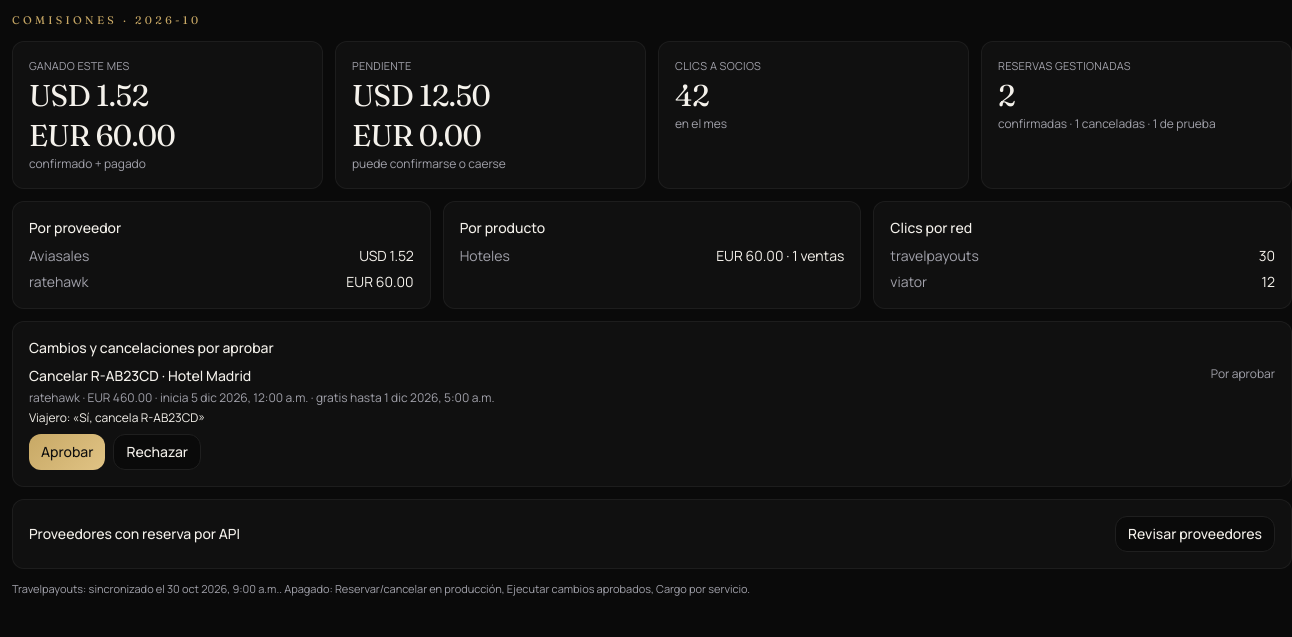
Test case: AdminCommissionsCard › aprobar una solicitud llama a admin_managed_request_decide y recarga
The image size is (1292, 637).
What coordinates should you click on to do the following:
click the button "Aprobar"
I would click on:
 (67, 452)
Its box is [29,434,106,470].
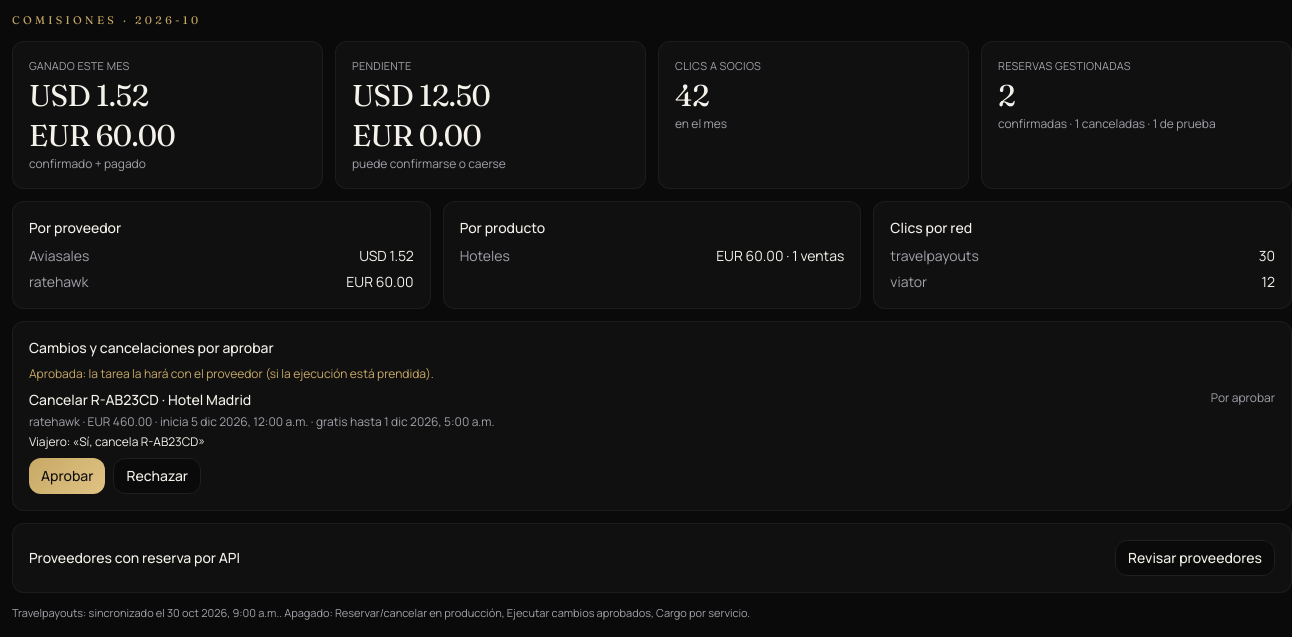
Expected: the message shows "Aprobada", [29,365,434,382]
